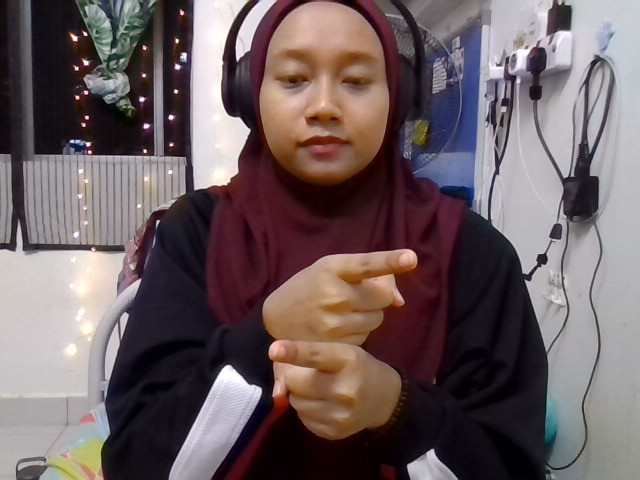Betul: (268, 248, 420, 440)
